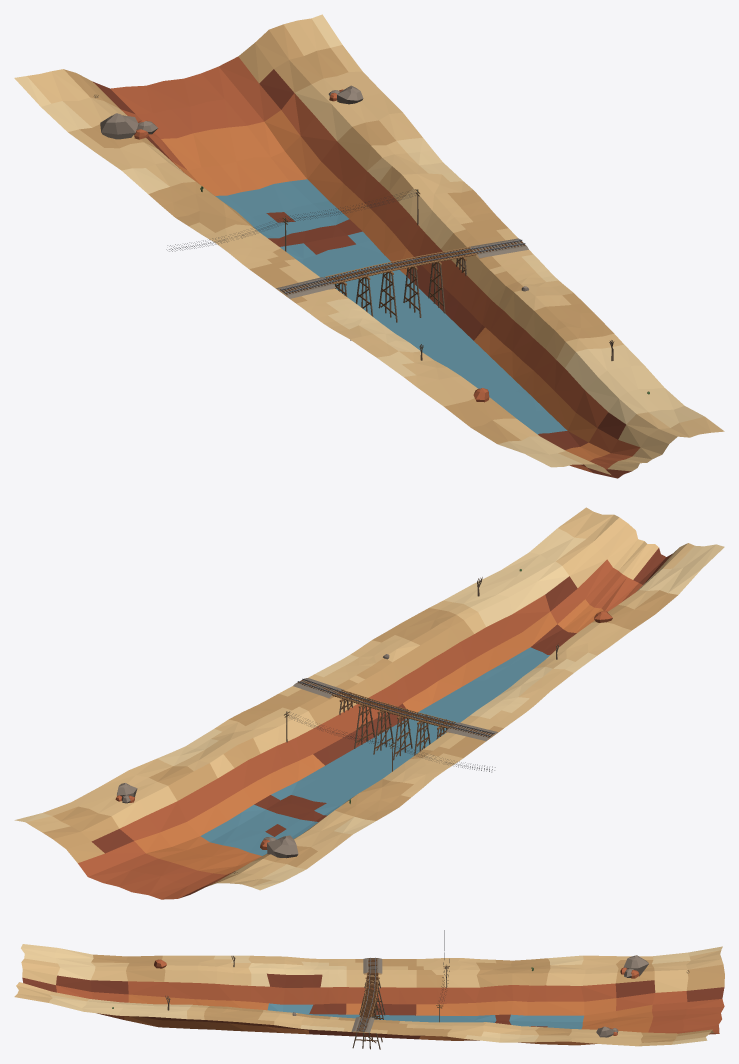
File: SM_FG_Chunk_Gulch_CurveR_A.fbx
3 renders of one model, top to bottom at view 1: azimuth 30°, elevation 25°; view 2: azimuth 150°, elevation 25°; view 3: azimuth 270°, elevation 25°, orthographic. The views are drawn at different scales.
Parts seen in each view (by area): view 1: FG_Chunk_Gulch_CurveR_A_Track; view 2: FG_Chunk_Gulch_CurveR_A_Track; view 3: FG_Chunk_Gulch_CurveR_A_Track.
Boxes of the visible parts, x1,y1,x2,y2 form: FG_Chunk_Gulch_CurveR_A_Track: (14,14,724,478); FG_Chunk_Gulch_CurveR_A_Track: (14,507,724,899); FG_Chunk_Gulch_CurveR_A_Track: (14,930,724,1049).
Bounding box in the file's own units: 7622 × 1653 × 20307.
